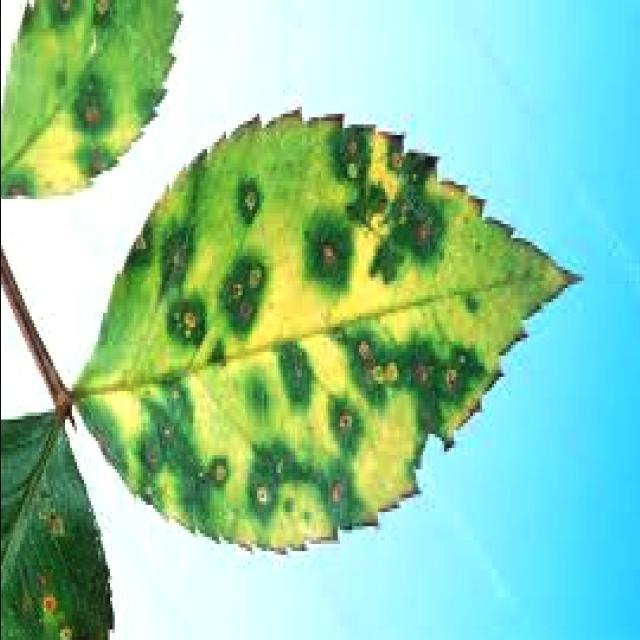leaf: (70, 106, 583, 554), (0, 0, 183, 198), (0, 410, 114, 639)
